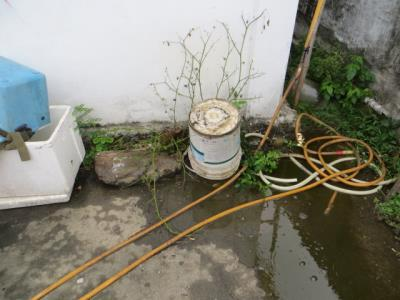bucket: (186, 97, 245, 182)
styrofoam: (1, 102, 86, 211)
